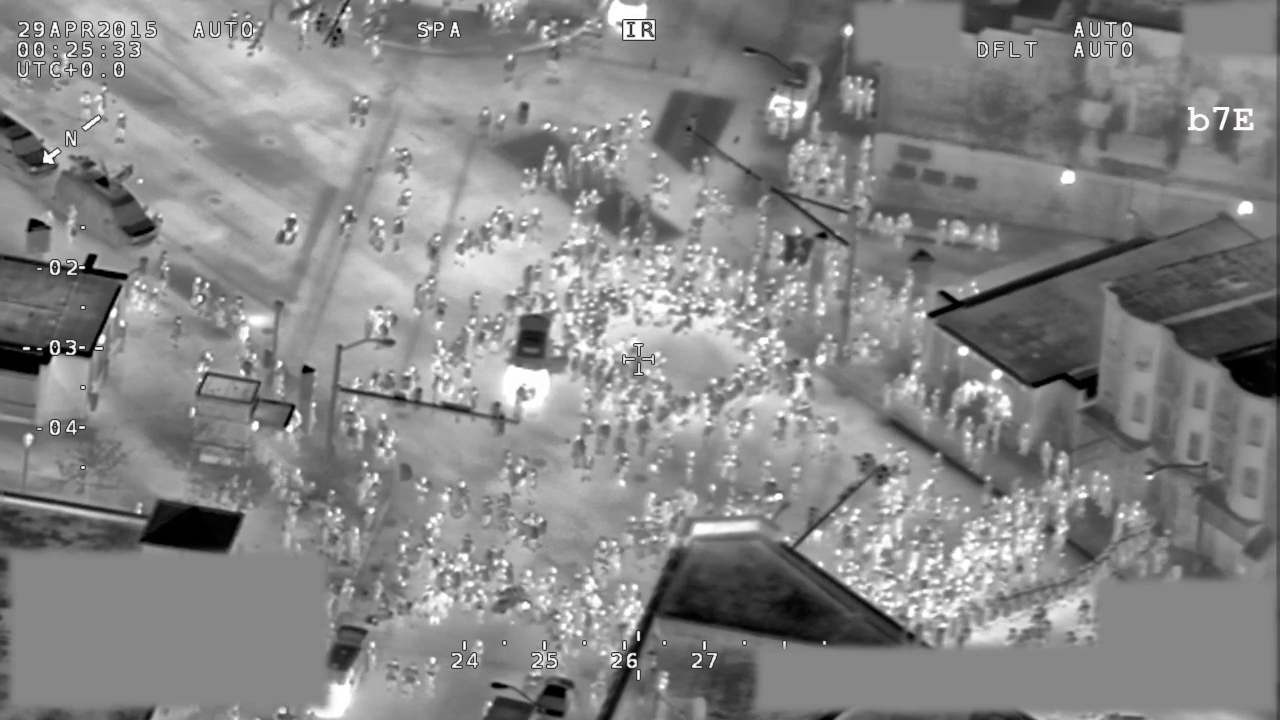vehicle: (52, 150, 161, 258), (305, 618, 381, 720), (757, 54, 825, 144), (505, 309, 558, 373)
